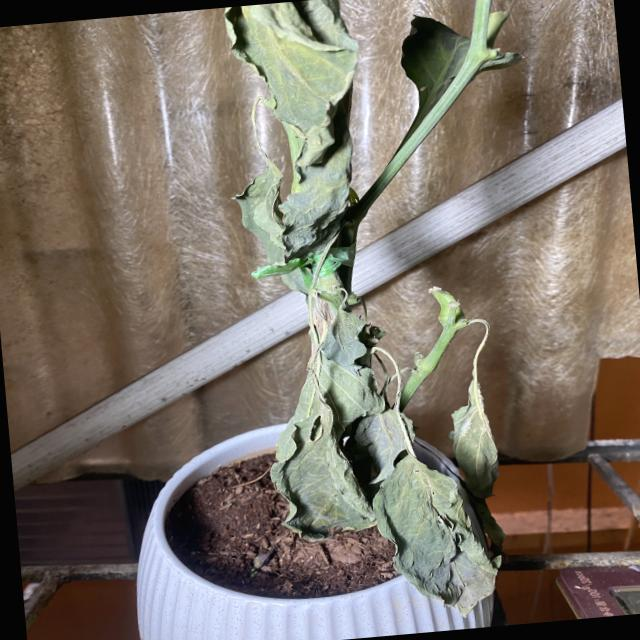Leaf: (367, 450, 500, 624)
